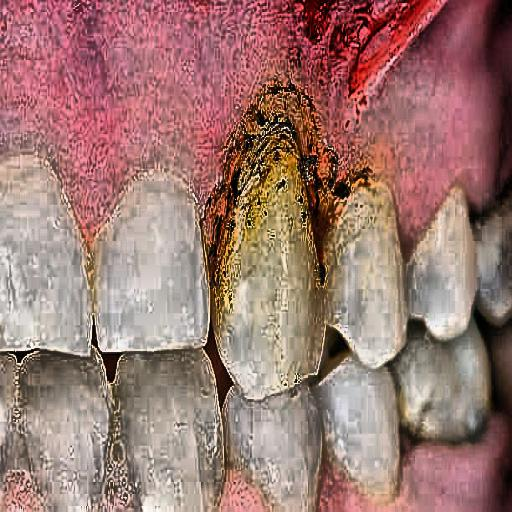Calculus: (178, 7, 384, 372)
